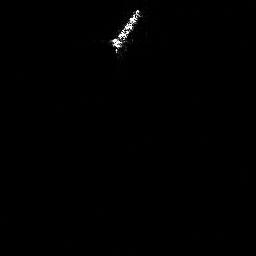ship: (107, 6, 145, 57)
